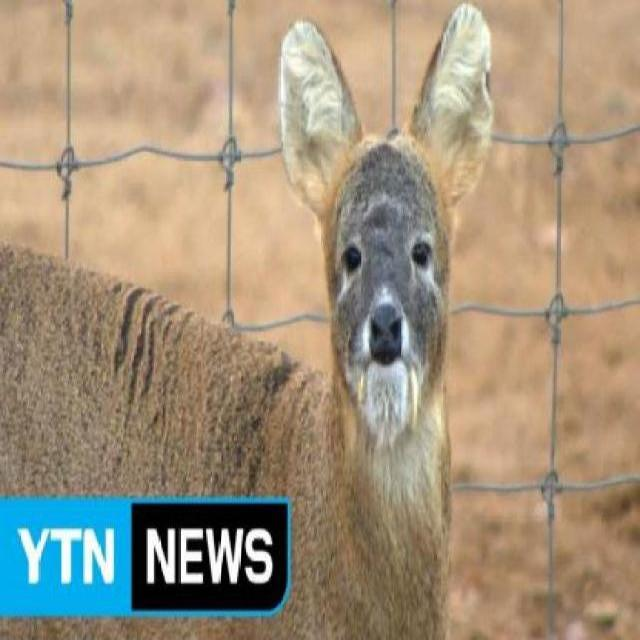deer: (0, 0, 498, 493)
